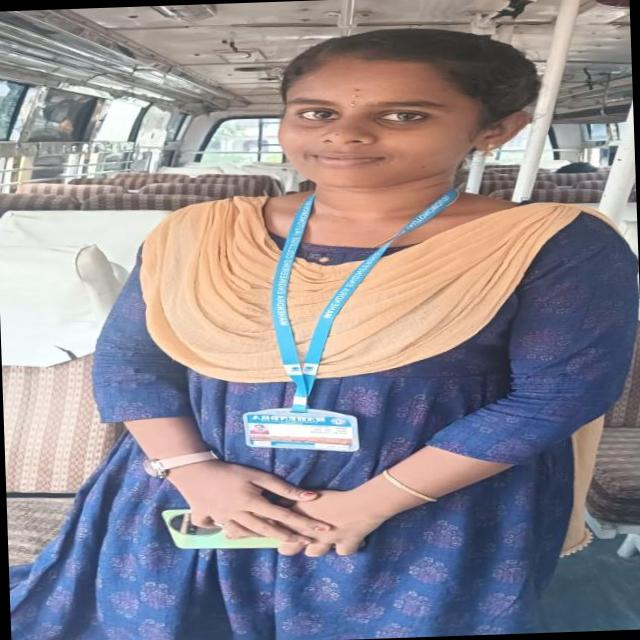id_card: (236, 180, 459, 451)
